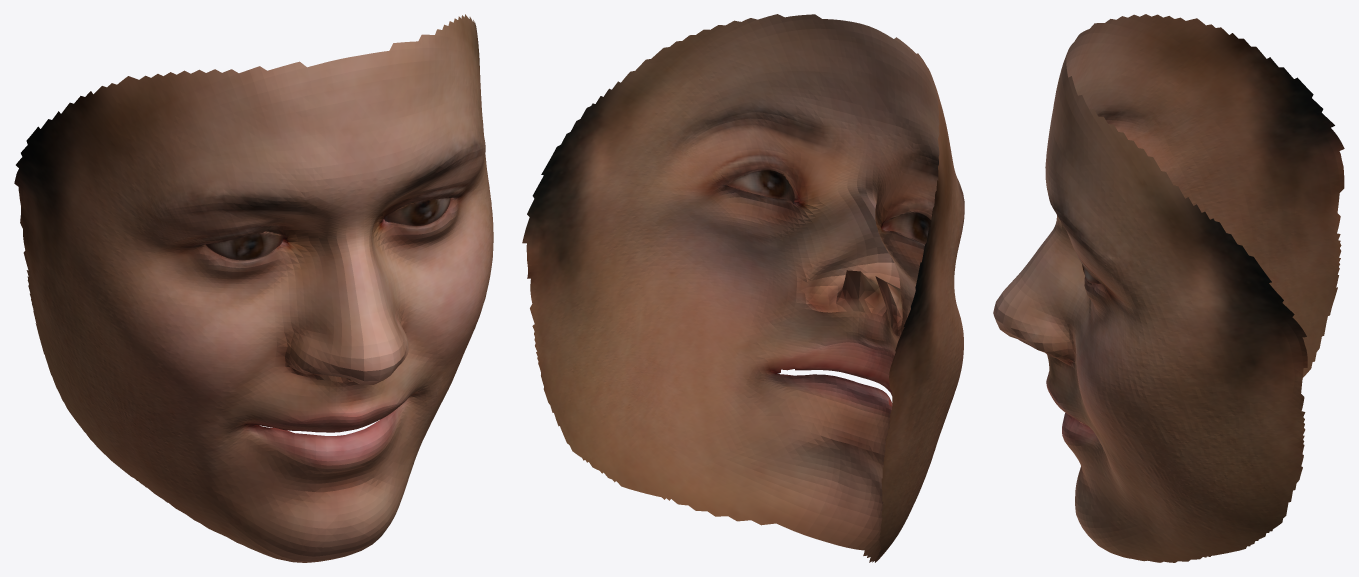
File: generated.photos_v3_0003103_mesh.obj
3 views of the same model, side by side, from view 1: azimuth 30°, elevation 25°; view 2: azimuth 150°, elevation 25°; view 3: azimuth 270°, elevation 25° (orthographic). The views are drawn at different scales.
Size of the model in its own units: 1.43 by 1.71 by 1.12.
